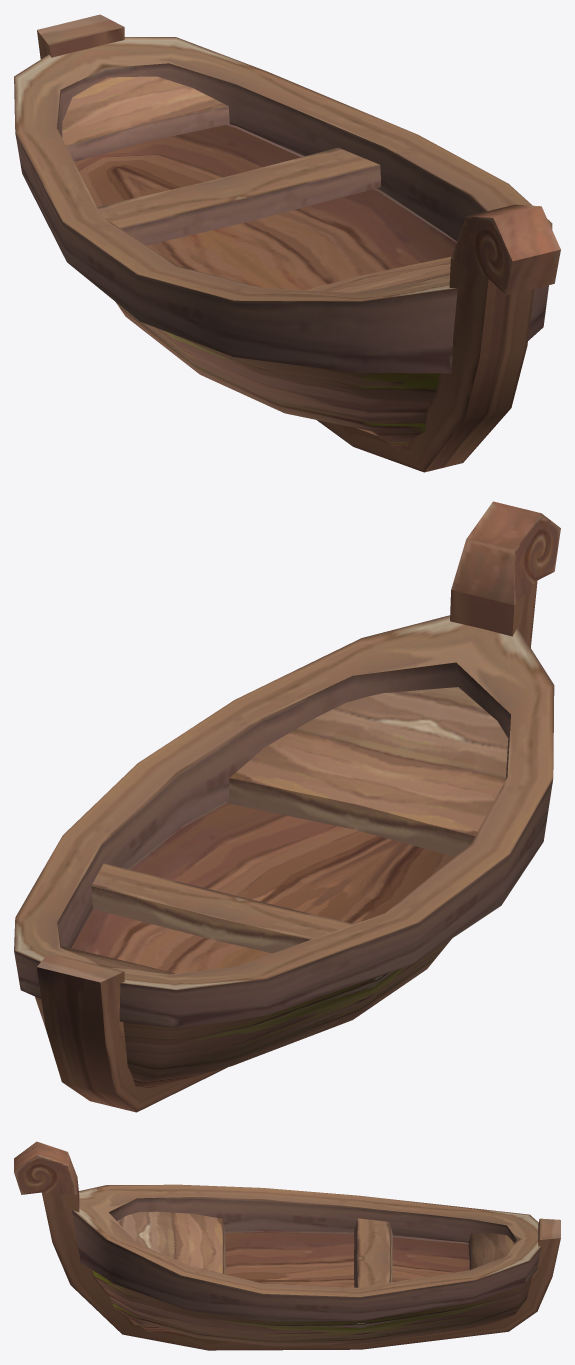
File: map_1002_wj_18.FBX
3 renders of one model, top to bottom at view 1: azimuth 30°, elevation 25°; view 2: azimuth 150°, elevation 25°; view 3: azimuth 270°, elevation 25°, orthographic. The views are drawn at different scales.
Visible parts, largest first — view 1: map_1002_wj_18; view 2: map_1002_wj_18; view 3: map_1002_wj_18.
Part boxes in pixels (<box>): map_1002_wj_18: <box>14,14,560,472</box>; map_1002_wj_18: <box>14,501,560,1112</box>; map_1002_wj_18: <box>14,1141,560,1350</box>.
Size of the model in its own units: 1.73 by 1.51 by 3.78.
